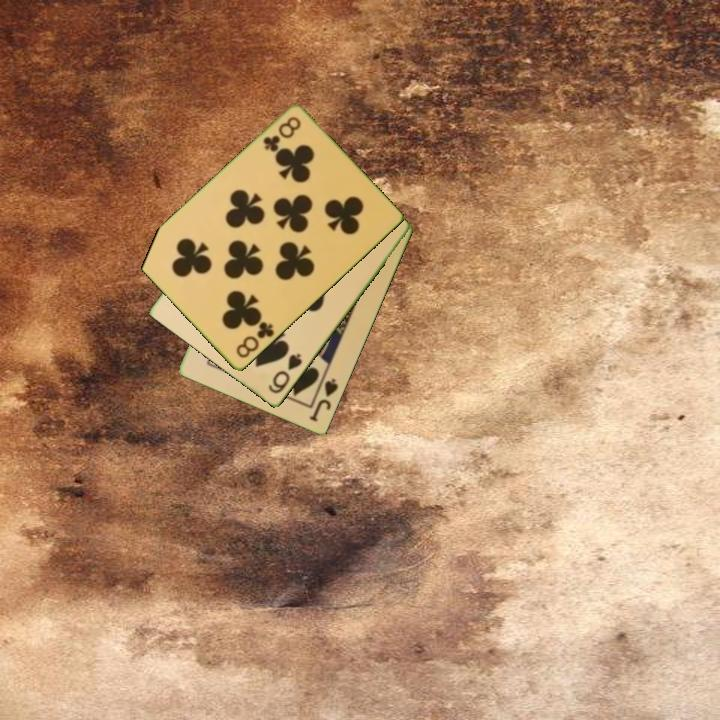6s: (265, 350, 305, 397)
8c: (232, 318, 277, 361), (260, 113, 304, 155)
Js: (306, 375, 341, 425)
